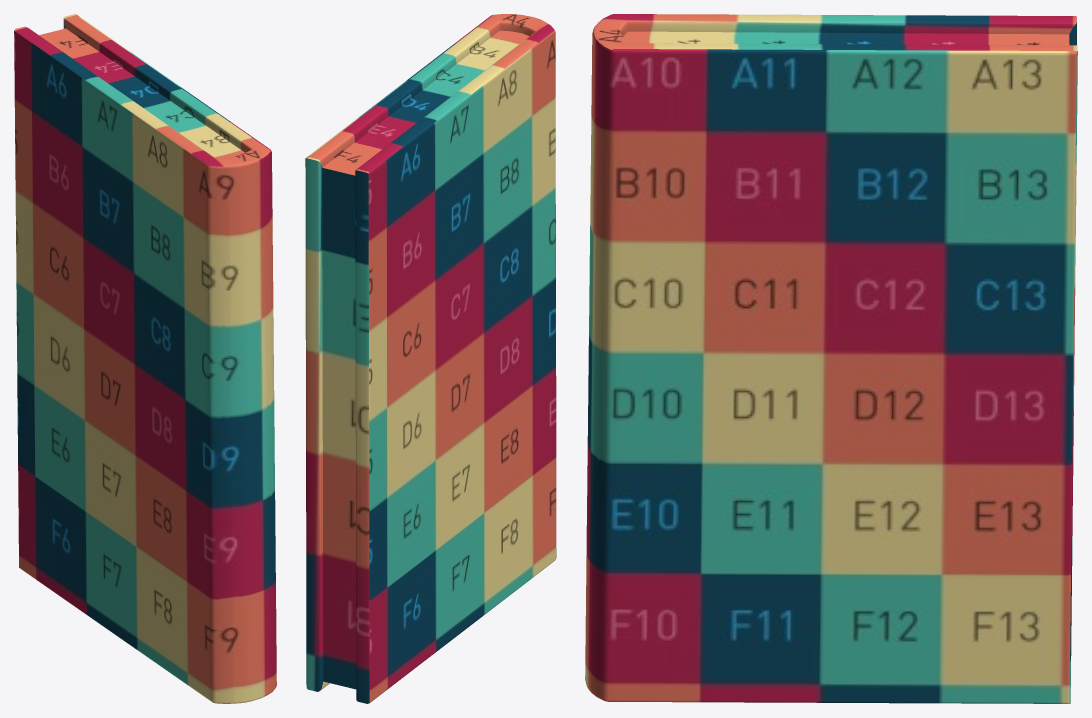
File: book_2.fbx
The picture shows the model from 3 angles, left to right: view 1: azimuth 30°, elevation 25°; view 2: azimuth 150°, elevation 25°; view 3: azimuth 270°, elevation 25°; orthographic projection. The views are drawn at different scales.
Parts seen in each view (by area): view 1: book_2; view 2: book_2; view 3: book_2.
Boxes of the visible parts, box(x1,y1,x2,y2) form: book_2: box(14, 14, 276, 703); book_2: box(305, 14, 556, 703); book_2: box(585, 14, 1077, 703).
Size of the model in its own units: 2.84 by 20.93 by 14.24.
